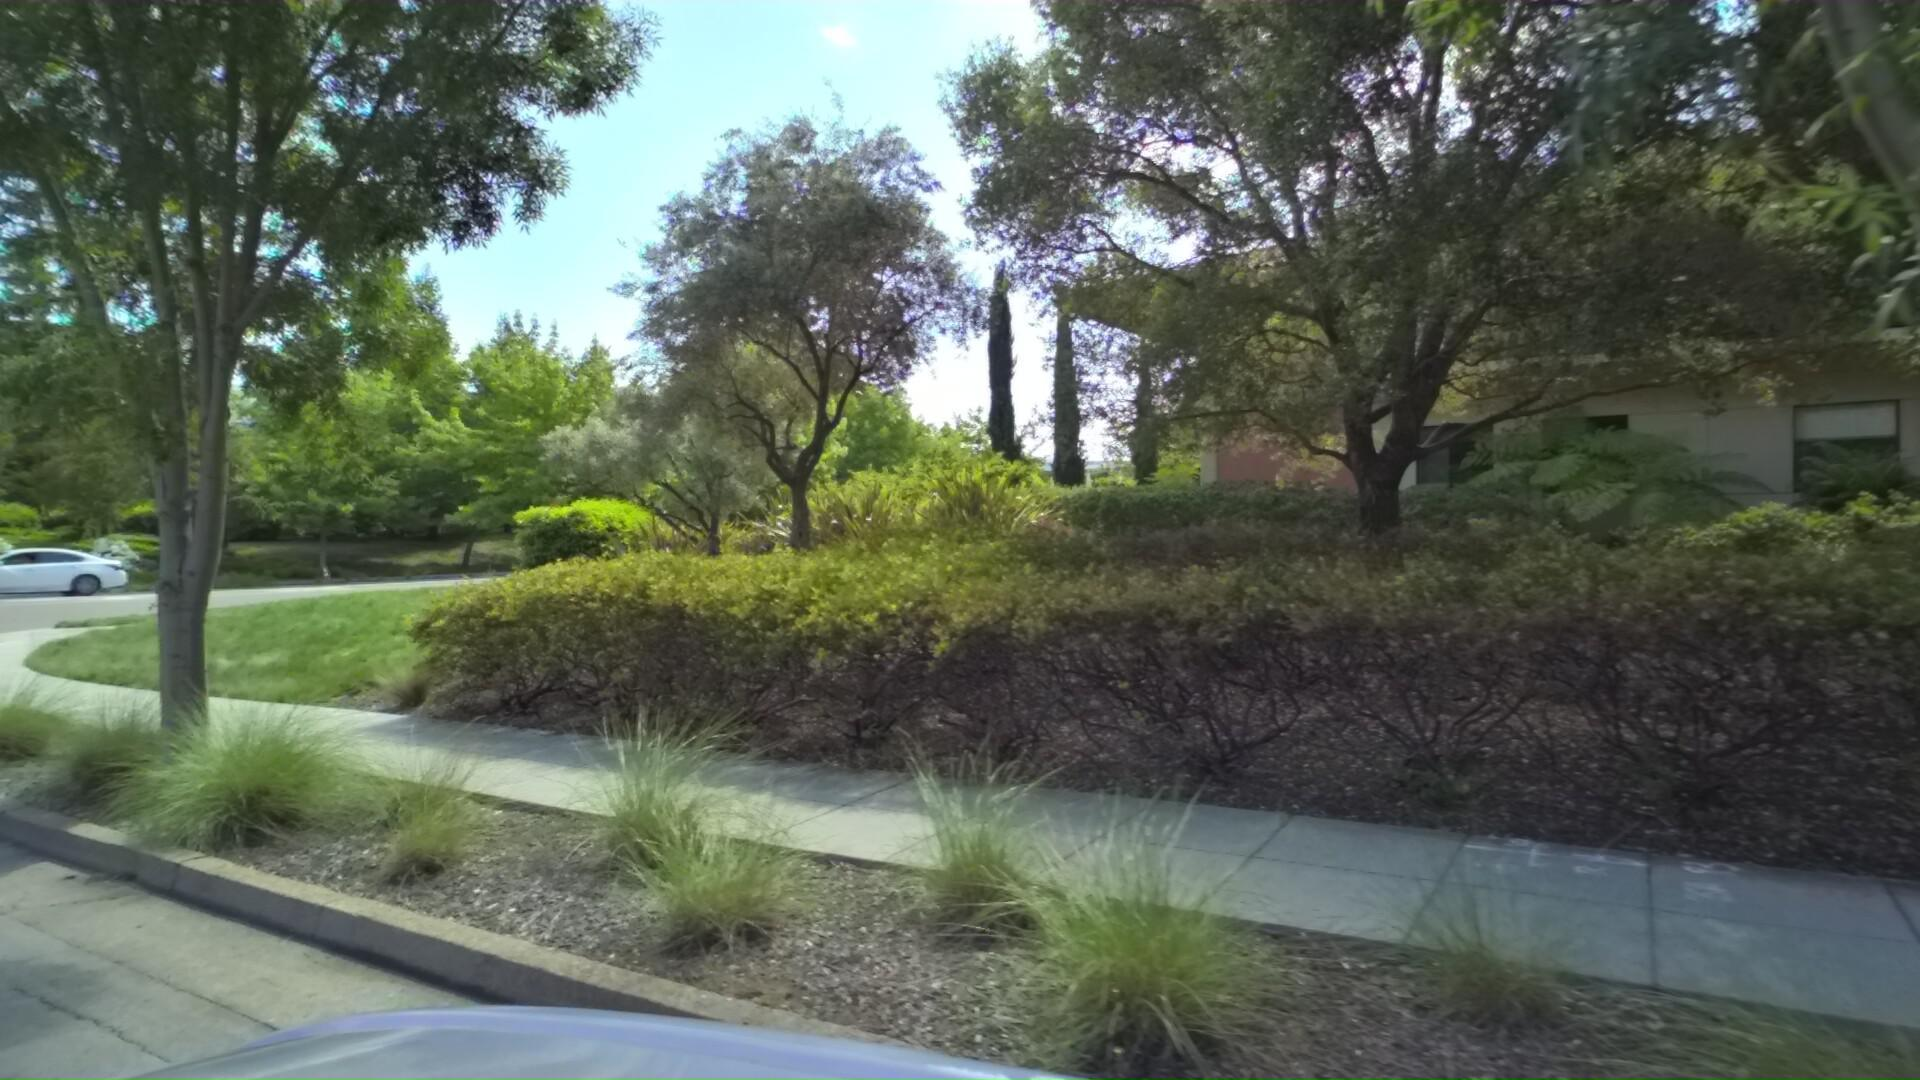car: (0, 534, 123, 597)
